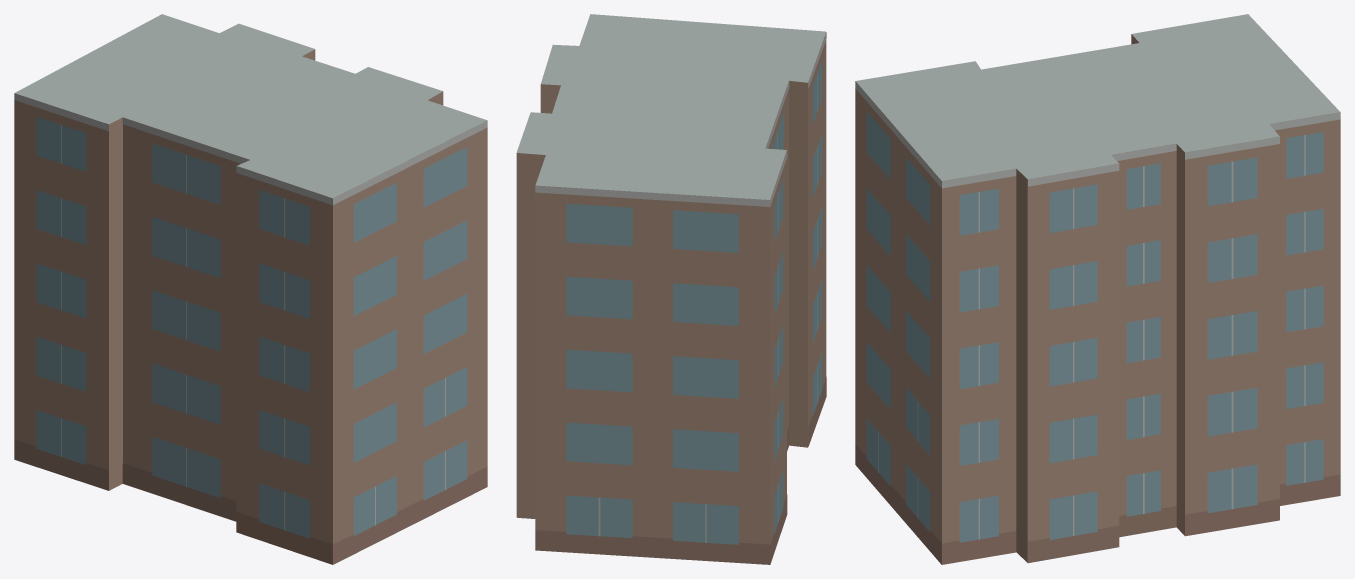
The model's file is survey-upis-32911273.glb.
3 renders of one model, left to right at view 1: azimuth 30°, elevation 25°; view 2: azimuth 150°, elevation 25°; view 3: azimuth 270°, elevation 25°, orthographic. The views are drawn at different scales.
Visible parts, largest first — view 1: survey-upis-32911273.tmp; view 2: survey-upis-32911273.tmp; view 3: survey-upis-32911273.tmp.
Boxes of the visible parts, bbox=[...] form: survey-upis-32911273.tmp: bbox=[14, 14, 487, 564]; survey-upis-32911273.tmp: bbox=[516, 14, 826, 564]; survey-upis-32911273.tmp: bbox=[855, 14, 1340, 564].
Bounding box in the file's own units: 11.96 × 12.8 × 14.67.
